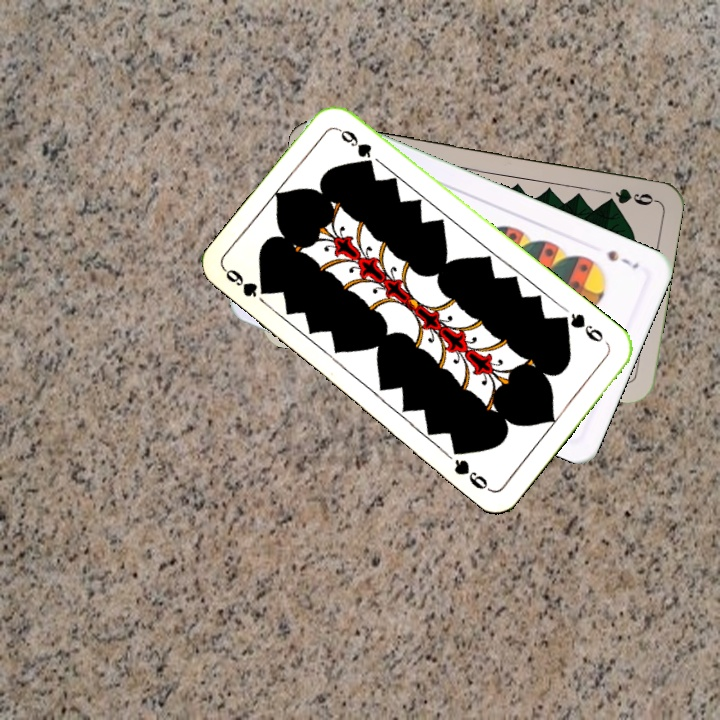G9: (556, 309, 606, 345), (221, 264, 260, 300), (611, 184, 658, 208)
S7: (603, 246, 642, 272)
